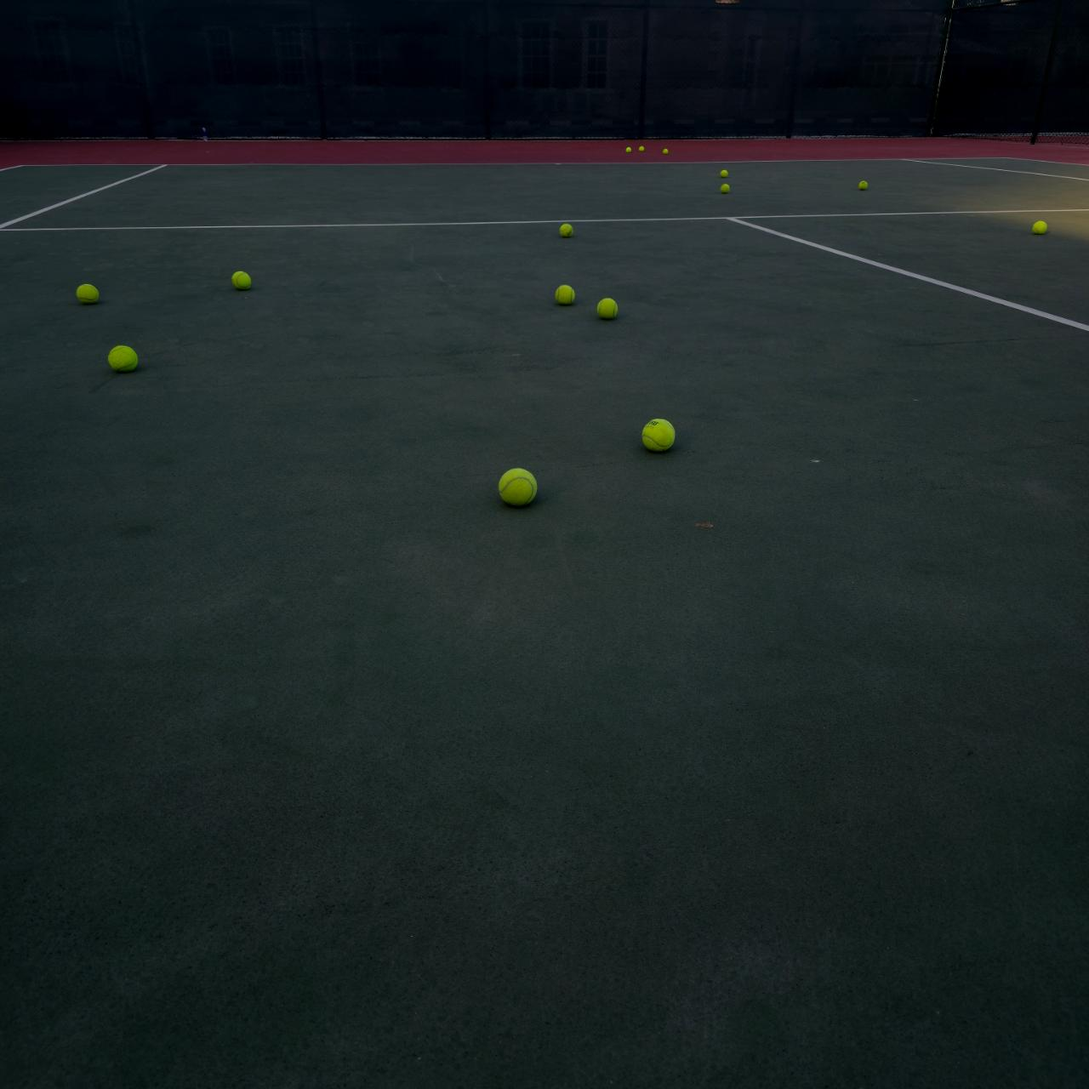tennis-ball: (498, 465, 539, 507), (641, 415, 677, 453), (108, 342, 140, 373), (77, 281, 100, 304), (231, 268, 253, 290), (597, 298, 619, 319), (556, 284, 575, 305), (1032, 220, 1048, 234), (559, 223, 574, 237), (720, 183, 730, 194), (858, 180, 868, 191), (720, 169, 729, 178), (638, 146, 645, 152), (626, 147, 632, 153), (663, 148, 668, 154)
